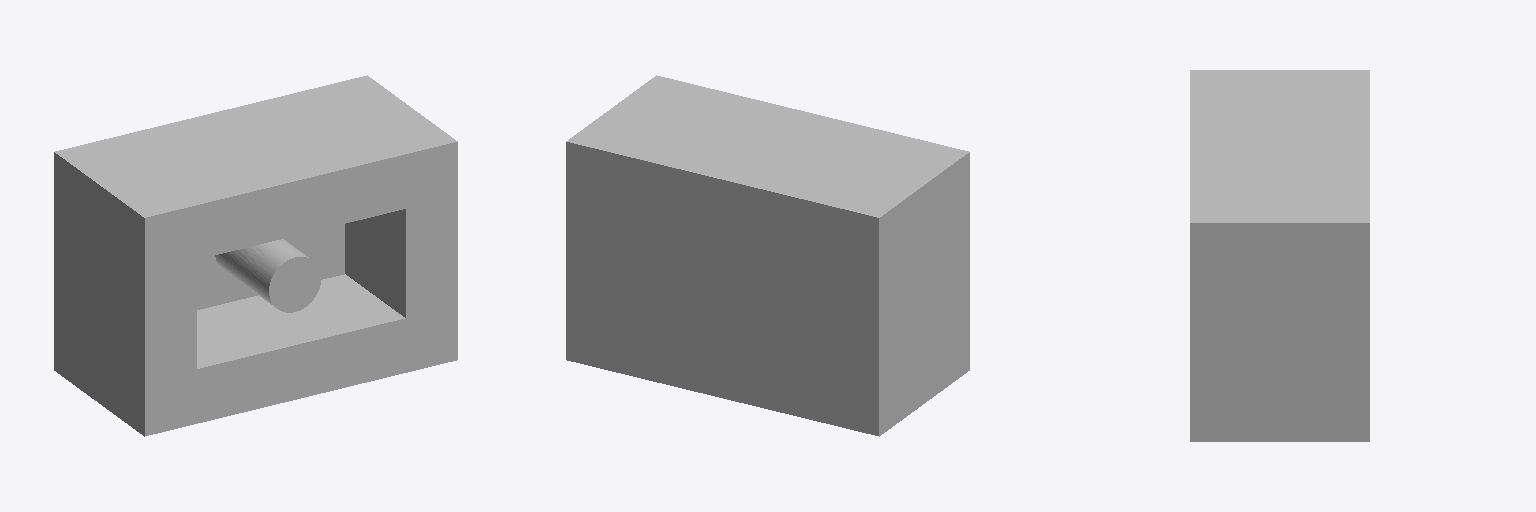
The model's file is tank40.obj.
3 views of the same model, side by side, from view 1: azimuth 30°, elevation 25°; view 2: azimuth 150°, elevation 25°; view 3: azimuth 270°, elevation 25° (orthographic).
Size of the model in its own units: 3 by 2 by 1.5.